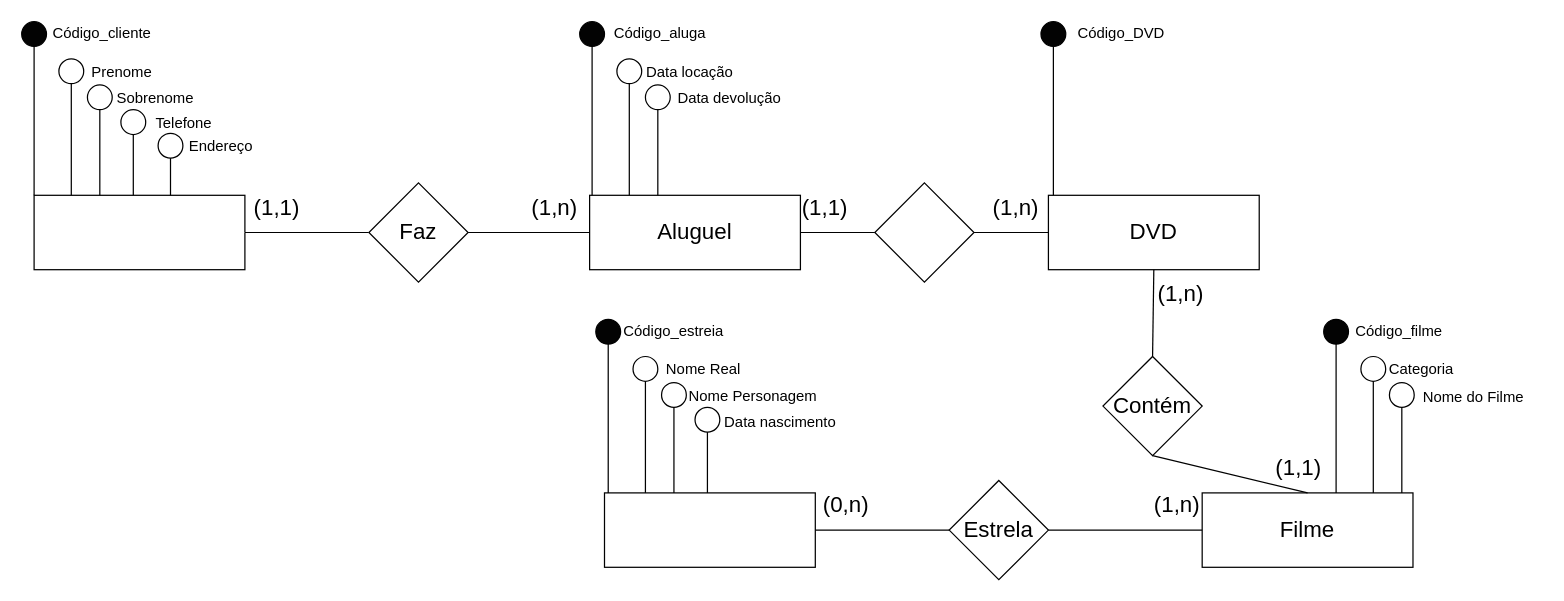
This 1564x601 diagram has some shape labels left out. The shapes that lost their labels are listed below. From the top down, each one's box as (x1, y1, x2, y2) in pixels, then its label:
(33, 194, 245, 270): Clientes
(874, 182, 974, 282): Aluga
(603, 492, 815, 567): Atores
